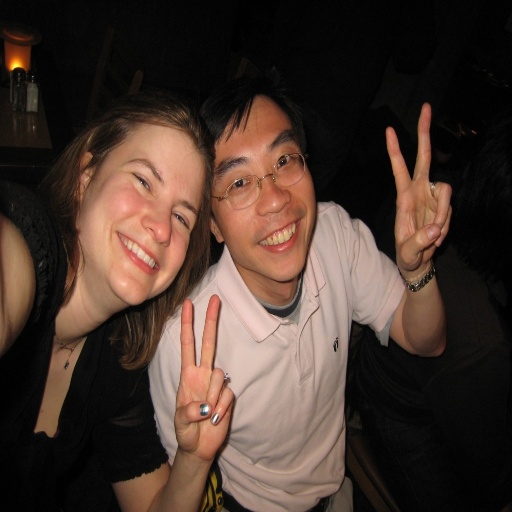hand: (386, 102, 451, 272), (170, 294, 232, 451)
